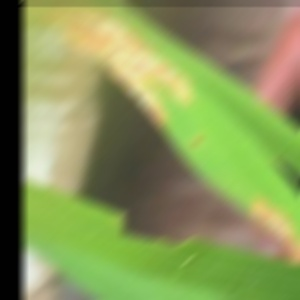Brown_Spot: (57, 13, 199, 127), (236, 182, 300, 266)
